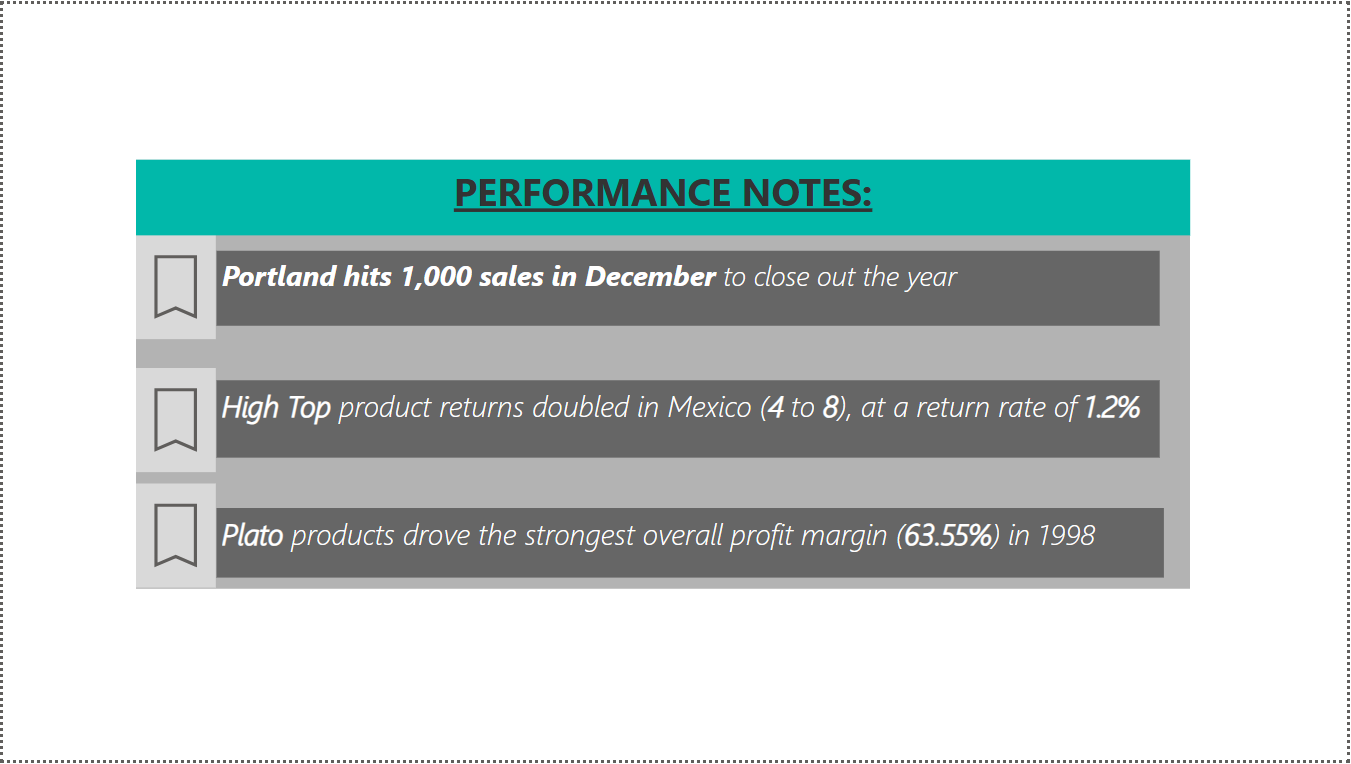

The page's visual inventory and layout, read from the dashboard file:
{"tool":"powerbi","page":{"name":"Notes","canvas":[1280,720],"ordinal":1},"visuals":[{"type":"textbox","box":[202,234.8,898,71.6],"z":0,"group":"g1"},{"type":"actionButton","box":[126,220.1,76,99.2],"z":1000,"group":"g1"},{"type":"textbox","box":[202,358.5,898,73.8],"z":2000,"group":"g1"},{"type":"textbox","box":[202,480,902,66],"z":3000,"group":"g1"},{"type":"actionButton","box":[126,346.4,76,99.2],"z":4000,"group":"g1"},{"type":"actionButton","box":[126,456.8,76,99.2],"z":5000,"group":"g1"},{"type":"textbox","box":[126,148,1004,72.1],"z":6000,"group":"g1"},{"type":"group","id":"g1","title":"Group 1","box":[126,148,1004,408],"z":6001}]}

Visuals, with their boxes in screenshot pixels (x1, y1, x2, y2), scaled from the page's 1280x720 canvas onto the 1351x764 screenshot:
textbox: (left=213, top=249, right=1161, bottom=325)
actionButton: (left=133, top=234, right=213, bottom=339)
textbox: (left=213, top=380, right=1161, bottom=459)
textbox: (left=213, top=509, right=1165, bottom=579)
actionButton: (left=133, top=368, right=213, bottom=473)
actionButton: (left=133, top=485, right=213, bottom=590)
textbox: (left=133, top=157, right=1193, bottom=234)
"Group 1" group: (left=133, top=157, right=1193, bottom=590)
